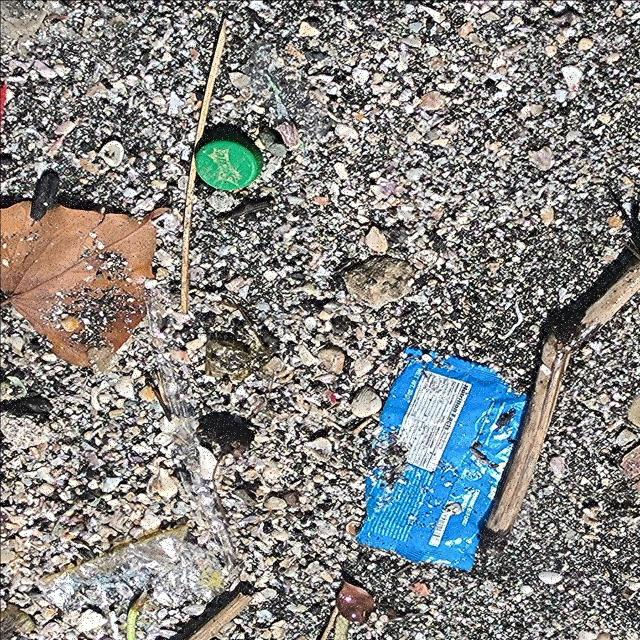plastic_waste: (357, 347, 530, 572), (195, 136, 263, 192)
